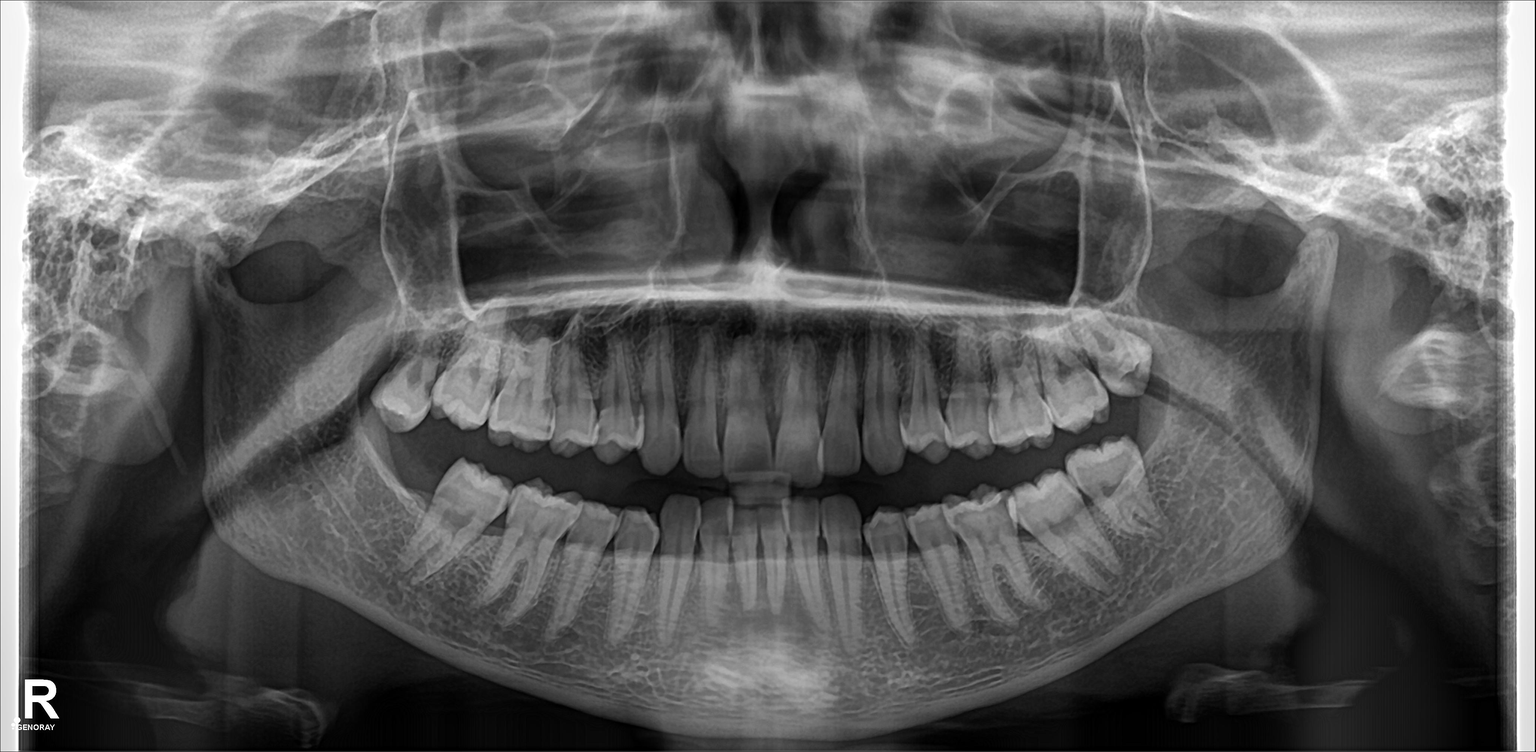Impacted Third Molar: (1089, 320, 1147, 398)
Missing Tooth: (387, 436, 435, 527)
